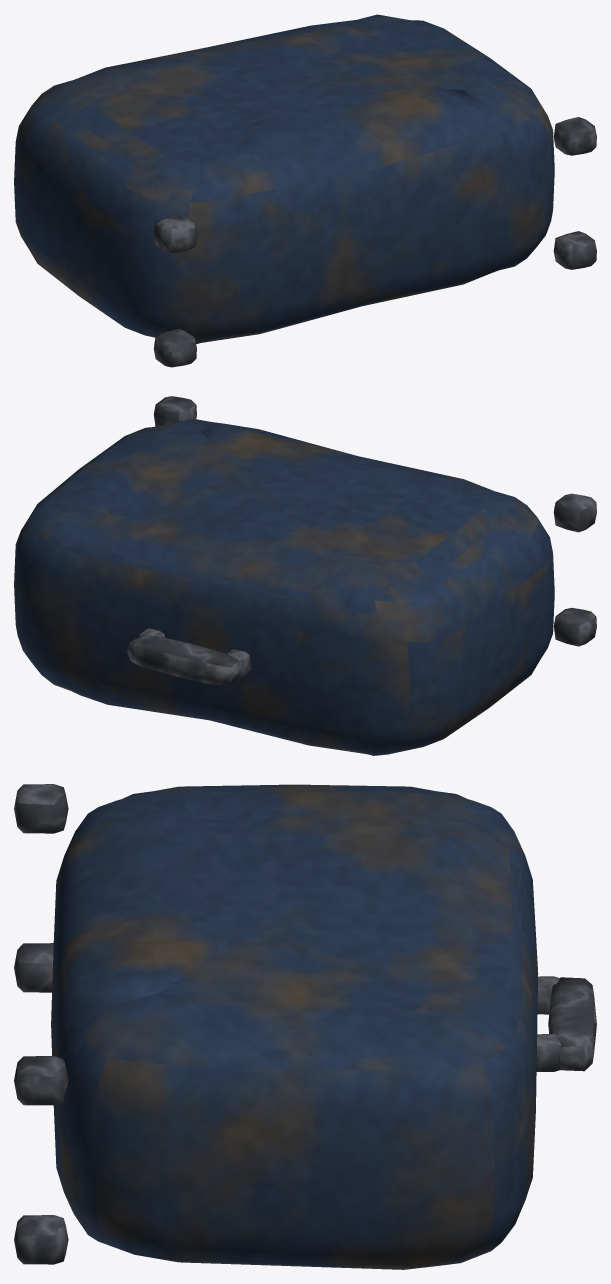
The model's file is plane_suitcase.glb.
3 views of the same model, one above another, from view 1: azimuth 30°, elevation 25°; view 2: azimuth 150°, elevation 25°; view 3: azimuth 270°, elevation 25° (orthographic). The views are drawn at different scales.
Parts seen in each view (by area): view 1: plane_suitcase; view 2: plane_suitcase; view 3: plane_suitcase.
Part boxes in pixels (left/top/right/bottom): plane_suitcase: left=14, top=14, right=596, bottom=367; plane_suitcase: left=14, top=396, right=596, bottom=755; plane_suitcase: left=14, top=784, right=596, bottom=1269.
Size of what is drawn, in the model's own units: 0.72 by 0.3117 by 0.598.
2 materials, 2 textured.
